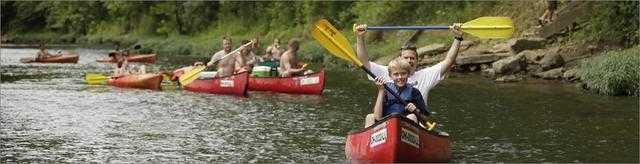kayak: (344, 114, 451, 163), (178, 64, 327, 97), (97, 49, 159, 67), (107, 72, 164, 90), (21, 50, 80, 64), (83, 72, 113, 84)
